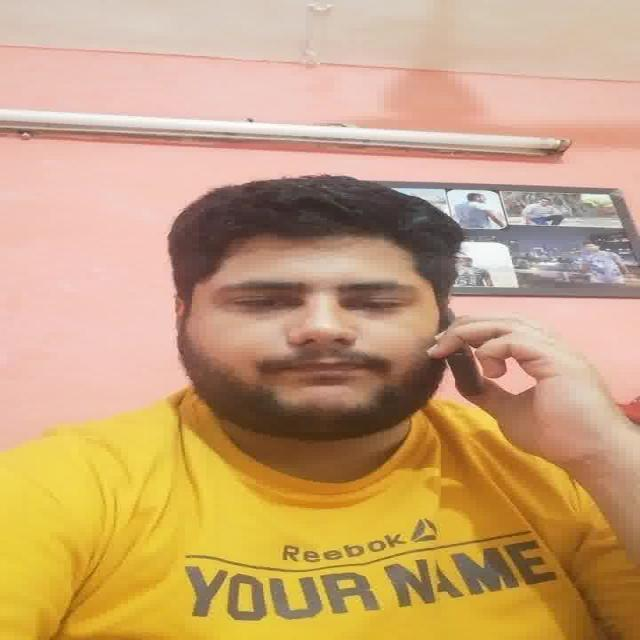Phone: (448, 346, 488, 400)
